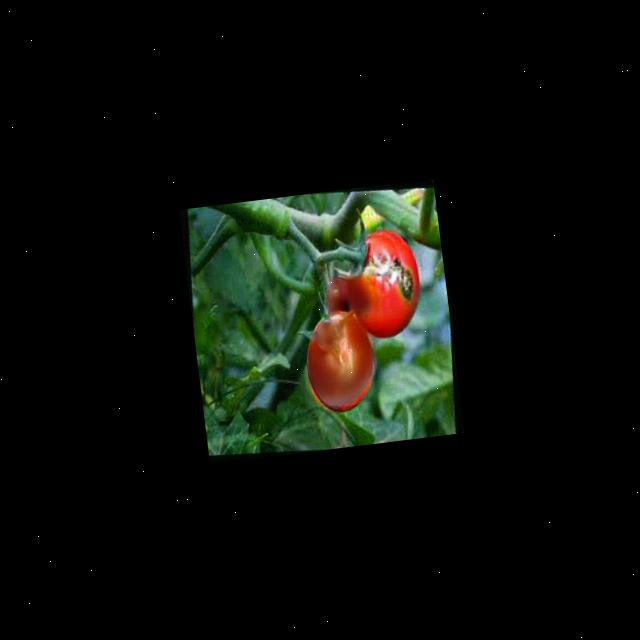tomato: (333, 224, 423, 339)
